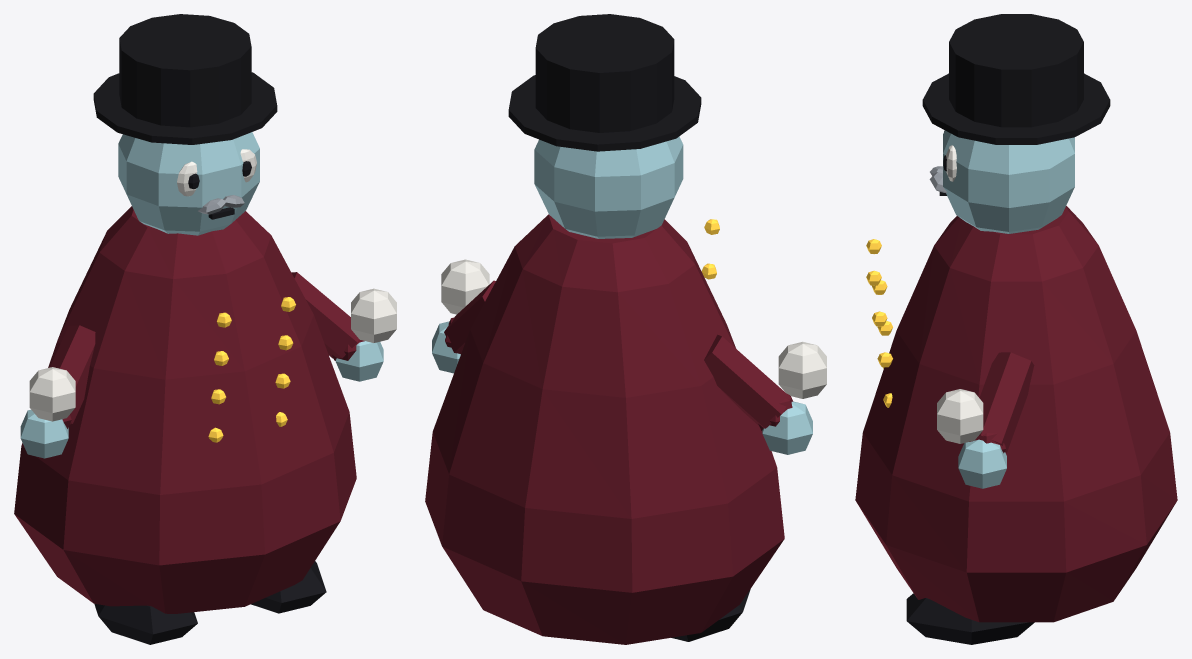
The model's file is npc_portero_subasta.glb.
3 views of the same model, side by side, from view 1: azimuth 30°, elevation 25°; view 2: azimuth 150°, elevation 25°; view 3: azimuth 270°, elevation 25° (orthographic). The views are drawn at different scales.
Parts seen in each view (by area): view 1: body_velvet_burgundy, cap_hat_black, head_skin_celeste, arms_velvet_burgundy, legs_black, props_white, arms_skin_celeste, body_gold, face_white; view 2: body_velvet_burgundy, cap_hat_black, head_skin_celeste, arms_velvet_burgundy, props_white, arms_skin_celeste, legs_black; view 3: body_velvet_burgundy, cap_hat_black, head_skin_celeste, arms_velvet_burgundy, legs_black, props_white, arms_skin_celeste, body_gold.
Boxes of the visible parts, x1,y1,x2,y2 form: body_velvet_burgundy: (14,206,356,613); cap_hat_black: (93,14,277,144); head_skin_celeste: (118,132,259,235); arms_velvet_burgundy: (50,272,364,428); legs_black: (94,561,326,644); props_white: (29,288,396,421); arms_skin_celeste: (20,341,383,458); body_gold: (208,297,295,442); face_white: (177,149,256,196); body_velvet_burgundy: (425,214,784,644); cap_hat_black: (508,14,701,151); head_skin_celeste: (534,136,683,238); arms_velvet_burgundy: (444,280,793,430); props_white: (441,259,826,398); arms_skin_celeste: (432,321,812,454); legs_black: (671,589,750,641); body_velvet_burgundy: (855,206,1177,622); cap_hat_black: (922,14,1110,144); head_skin_celeste: (943,130,1074,233); arms_velvet_burgundy: (969,352,1034,453); legs_black: (906,593,1034,644); props_white: (937,389,983,443); arms_skin_celeste: (958,439,1006,488); body_gold: (866,239,892,407).
Bounding box in the file's own units: 1.14 × 1.66 × 0.86.
